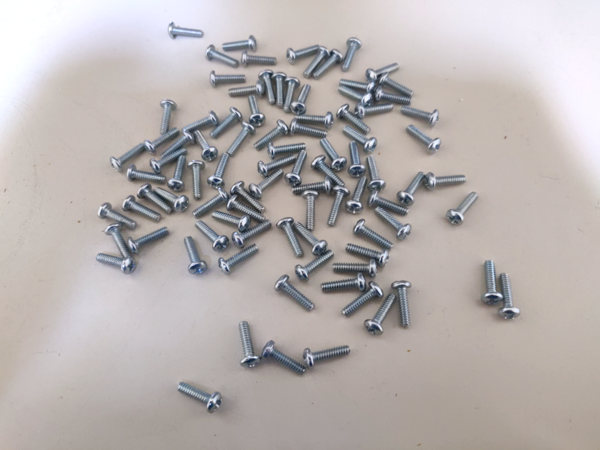shortscrew: (262, 340, 306, 376), (275, 275, 315, 313), (176, 382, 222, 414), (342, 282, 384, 317), (365, 293, 398, 336), (230, 179, 267, 216), (218, 245, 260, 277), (376, 206, 412, 242), (294, 250, 335, 281), (353, 219, 394, 250), (293, 222, 329, 256), (304, 344, 352, 369), (192, 188, 230, 219), (253, 120, 291, 151), (337, 103, 372, 136), (368, 190, 410, 217), (127, 228, 169, 255), (277, 217, 304, 259), (248, 170, 285, 200), (498, 273, 521, 321), (311, 155, 345, 187), (448, 191, 479, 226), (407, 125, 442, 156), (111, 143, 147, 173), (195, 220, 229, 251), (122, 195, 161, 222), (227, 194, 266, 221), (138, 184, 173, 214), (226, 122, 255, 158), (342, 126, 378, 155), (482, 260, 504, 307), (312, 49, 344, 81), (97, 202, 136, 228), (150, 149, 189, 175), (346, 244, 390, 267), (398, 171, 426, 207), (320, 137, 348, 173), (210, 108, 244, 137), (160, 130, 195, 158), (240, 322, 261, 368), (321, 272, 367, 293), (392, 280, 411, 330), (328, 186, 350, 228), (345, 175, 368, 215), (184, 237, 208, 275), (303, 46, 331, 78), (292, 176, 334, 197), (212, 211, 252, 233), (379, 73, 414, 98), (207, 152, 230, 190), (205, 45, 241, 69), (183, 111, 219, 135), (257, 156, 298, 177), (145, 130, 178, 156), (104, 224, 129, 258), (400, 105, 440, 126), (154, 188, 189, 212), (96, 255, 137, 275), (284, 150, 306, 187), (126, 164, 166, 184), (302, 190, 321, 232), (334, 259, 377, 277), (194, 130, 218, 162), (337, 86, 373, 107), (424, 173, 468, 190), (366, 156, 386, 193), (188, 160, 206, 201), (341, 38, 362, 73), (228, 80, 266, 99), (355, 102, 395, 120), (290, 118, 327, 137), (295, 111, 334, 129), (366, 63, 401, 83), (290, 84, 311, 116), (287, 45, 322, 64), (167, 156, 186, 191), (258, 70, 277, 105), (267, 141, 306, 158), (283, 77, 301, 113), (348, 142, 366, 178), (159, 100, 177, 135), (242, 51, 277, 68), (209, 71, 246, 87), (339, 79, 376, 95), (272, 71, 288, 108), (169, 23, 203, 40), (248, 95, 266, 127), (222, 36, 258, 52)
